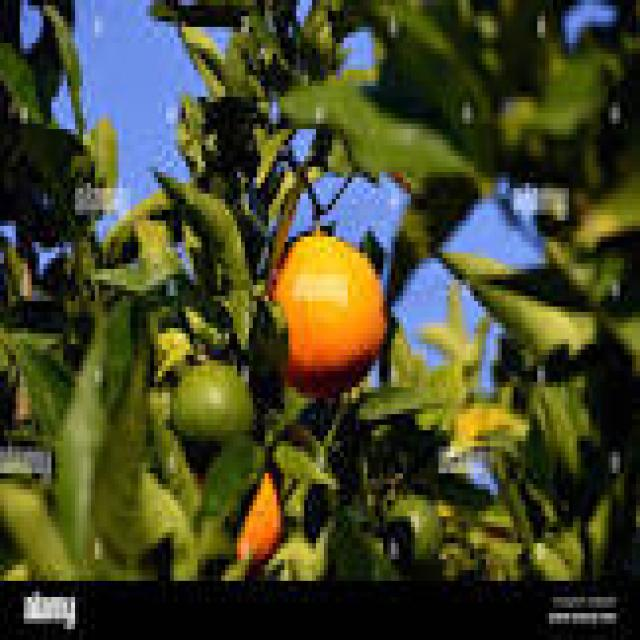orange: (273, 231, 383, 393), (170, 360, 253, 441)
